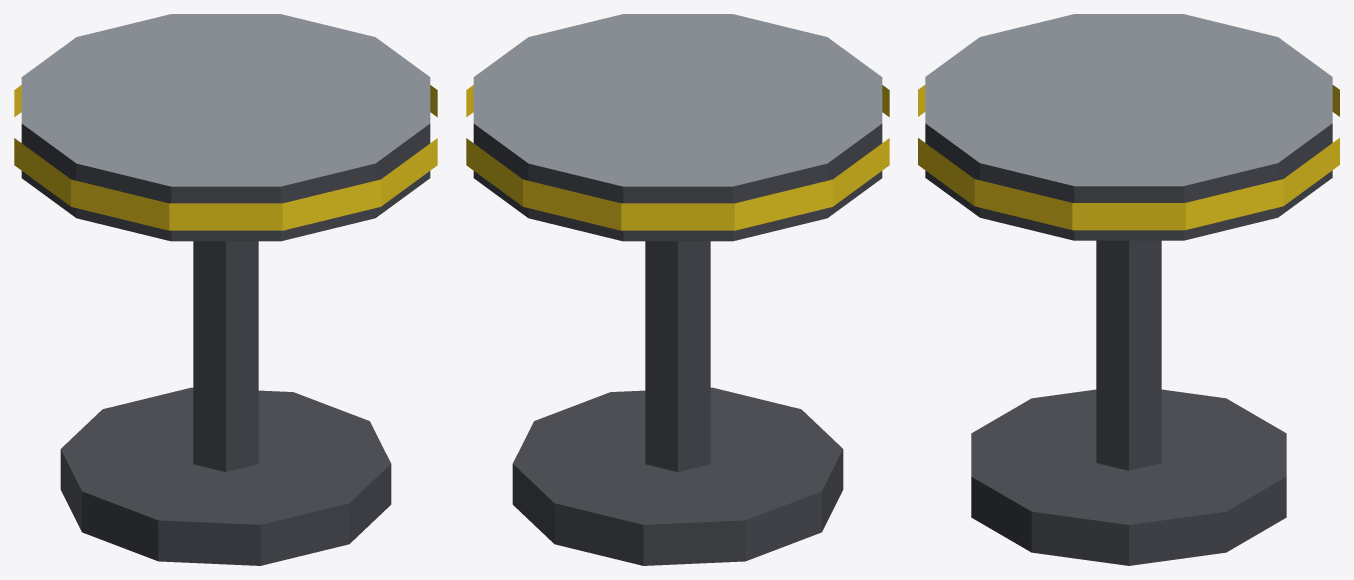
The model's file is display_stand.glb.
3 views of the same model, side by side, from view 1: azimuth 30°, elevation 25°; view 2: azimuth 150°, elevation 25°; view 3: azimuth 270°, elevation 25° (orthographic).
Parts seen in each view (by area): view 1: display_stand; view 2: display_stand; view 3: display_stand.
Boxes of the visible parts, box(x1,y1,x2,y2) form: display_stand: box(14, 14, 437, 565); display_stand: box(466, 14, 889, 565); display_stand: box(918, 14, 1339, 565).
Bounding box in the file's own units: 0.5602 × 0.58 × 0.5602.
